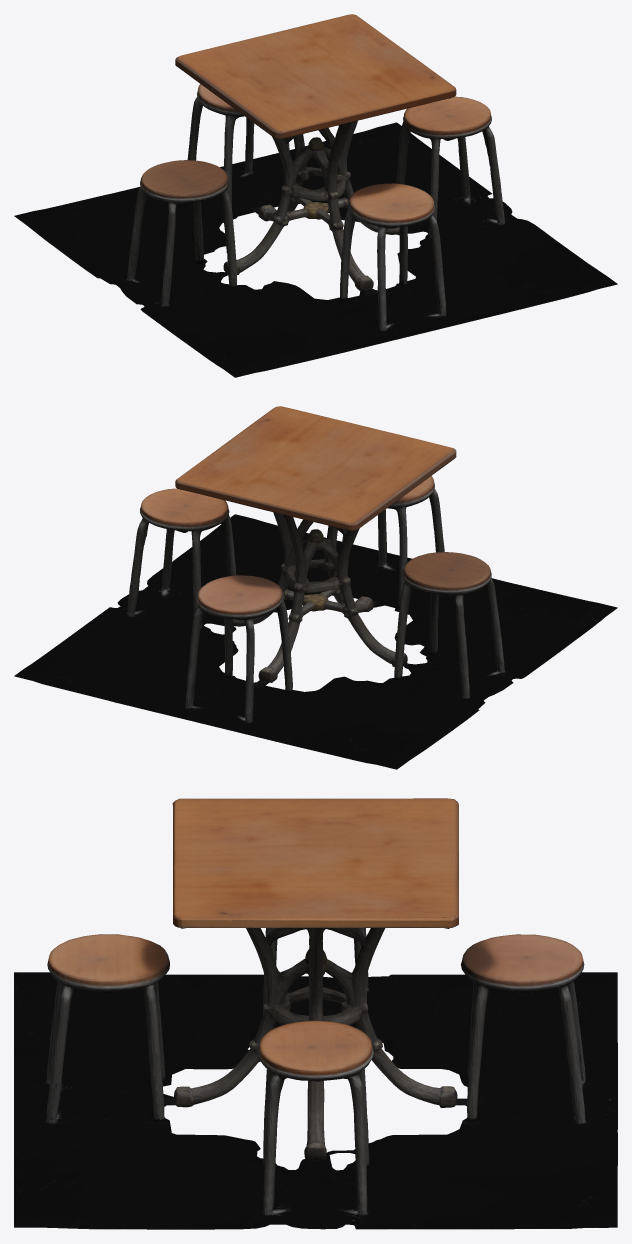
The picture shows the model from 3 angles, top to bottom: view 1: azimuth 30°, elevation 25°; view 2: azimuth 150°, elevation 25°; view 3: azimuth 270°, elevation 25°; orthographic projection. The views are drawn at different scales.
Visible parts, largest first — view 1: world.003; view 2: world.003; view 3: world.003.
Part boxes in pixels (x1,y1,x2,y2): world.003: (14, 14, 617, 377); world.003: (14, 406, 617, 769); world.003: (14, 798, 617, 1229).
Bounding box in the file's own units: 100 × 45.23 × 100.
Materials: 1 (1 with a texture image).
